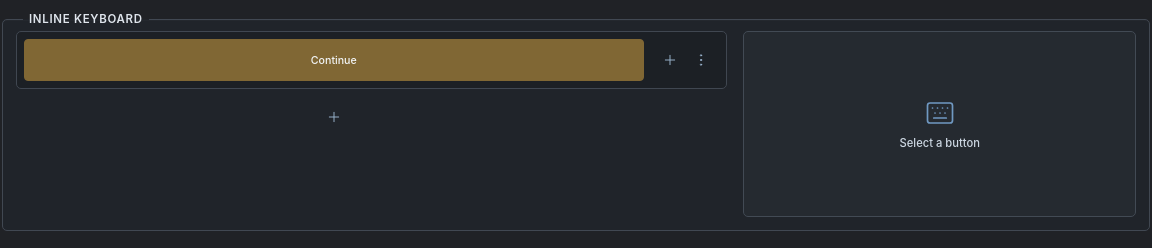
KeyboardComposer › deletes a button directly from the keyboard canvas
Click the button "Continue" at (334, 60), box [24,39,644,81]
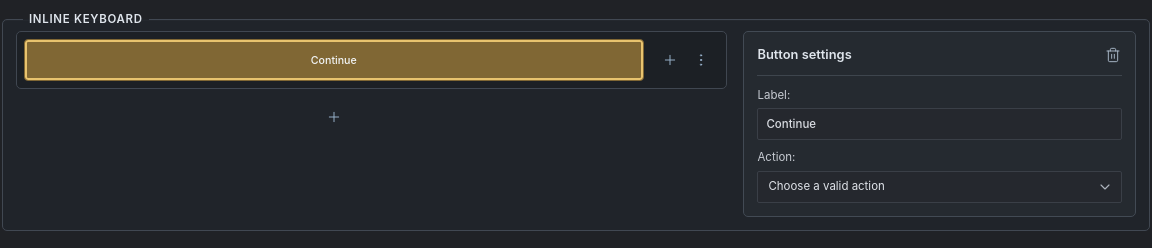
Click the button named "Delete selected button" at (1113, 55), box [1099,41,1127,69]
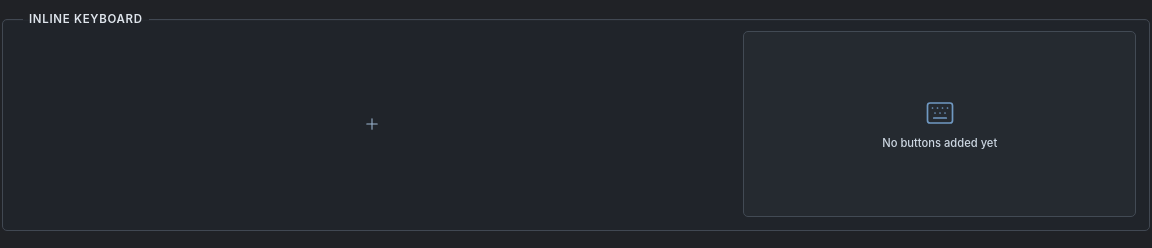
Expected: no elements with class "keyboard-composer__row" are shown
